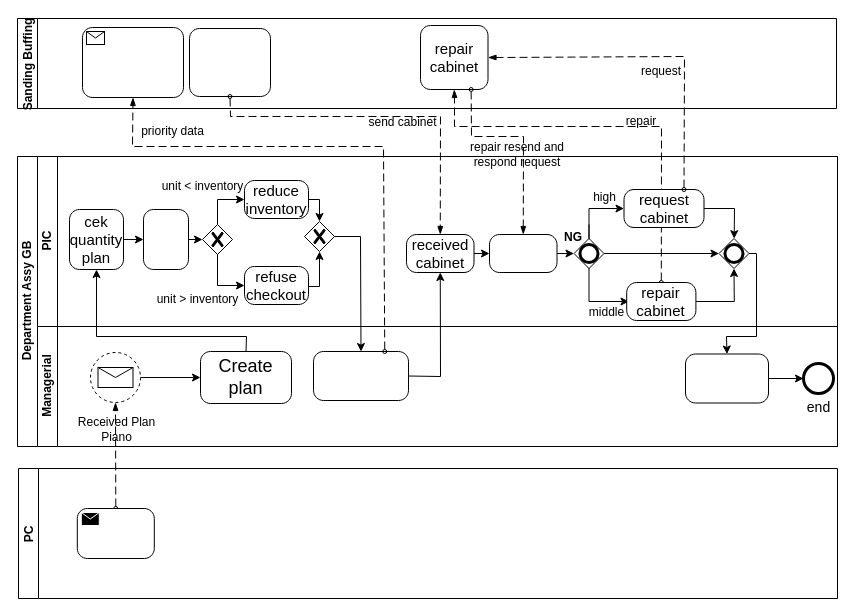
This 855x616 diagram has some shape labels left out. Each missing label, with the centre of its shape:
C.Out Plan: pixel 165 239
cek input cabinet: pixel 522 253
List cabinet priority: pixel 360 375
Plan Produksi: pixel 115 533
production cabinet: pixel 229 62
Ratio Set Data: pixel 726 378
received cabinet priority: pixel 133 62
